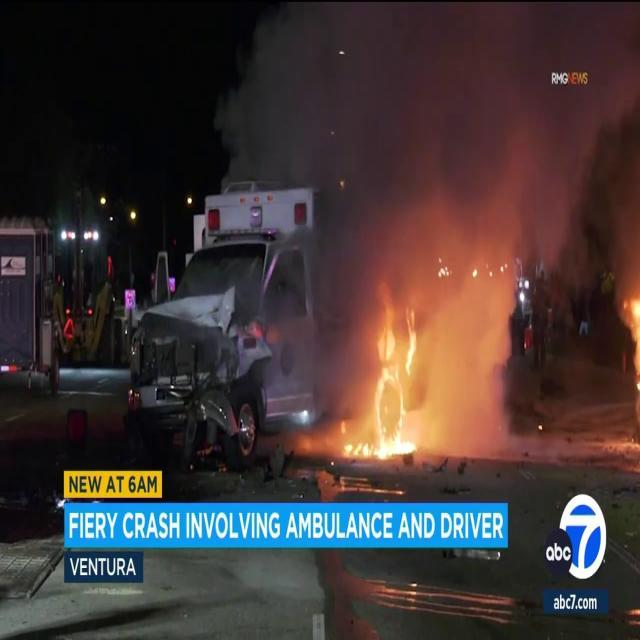Smoke: (266, 7, 608, 464)
